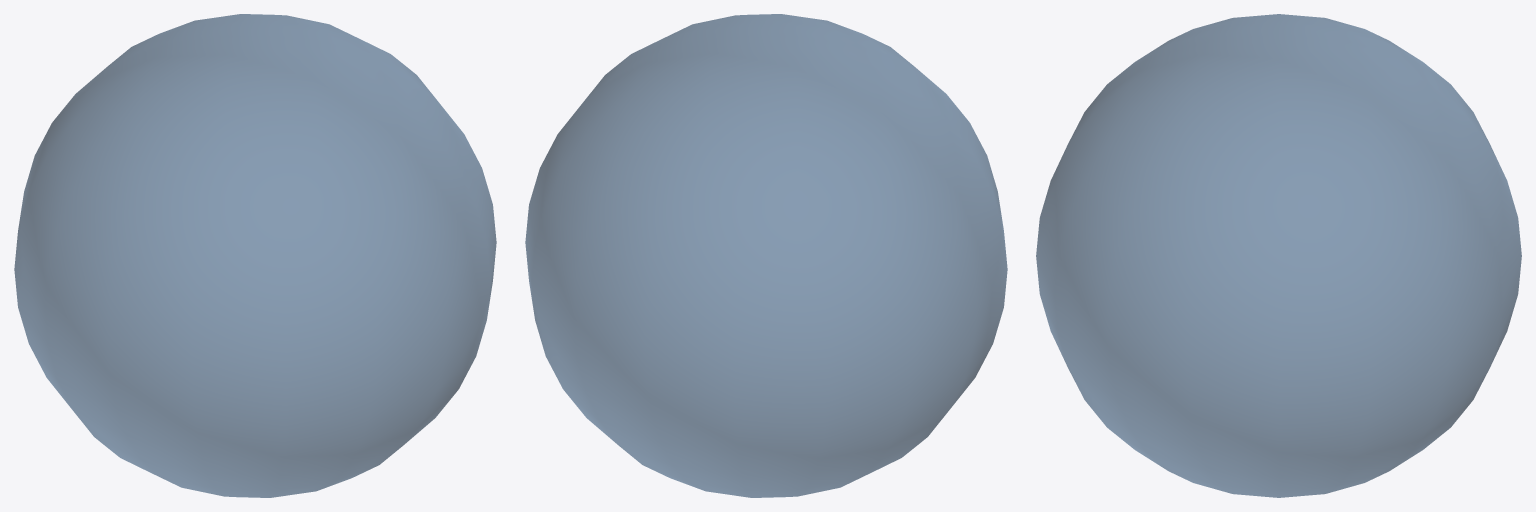
Rendered from Marble glass plain.fbx.
3 views of the same model, side by side, from view 1: azimuth 30°, elevation 25°; view 2: azimuth 150°, elevation 25°; view 3: azimuth 270°, elevation 25° (orthographic).
Parts seen in each view (by area): view 1: Marble glass plain; view 2: Marble glass plain; view 3: Marble glass plain.
Boxes of the visible parts, x1,y1,x2,y2 form: Marble glass plain: (14, 14, 496, 497); Marble glass plain: (525, 14, 1007, 497); Marble glass plain: (1036, 14, 1521, 497).
Bounding box in the file's own units: 200 × 200 × 200.
